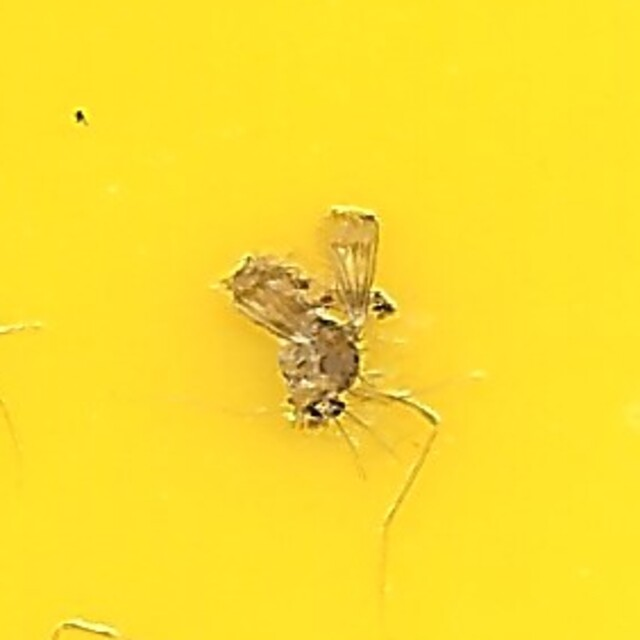Nematocera: (227, 205, 413, 435)
